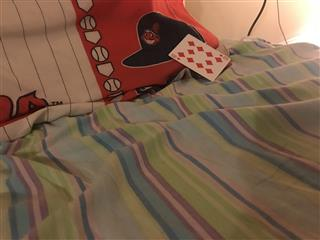TenOfDiamonds: (167, 32, 230, 81)
